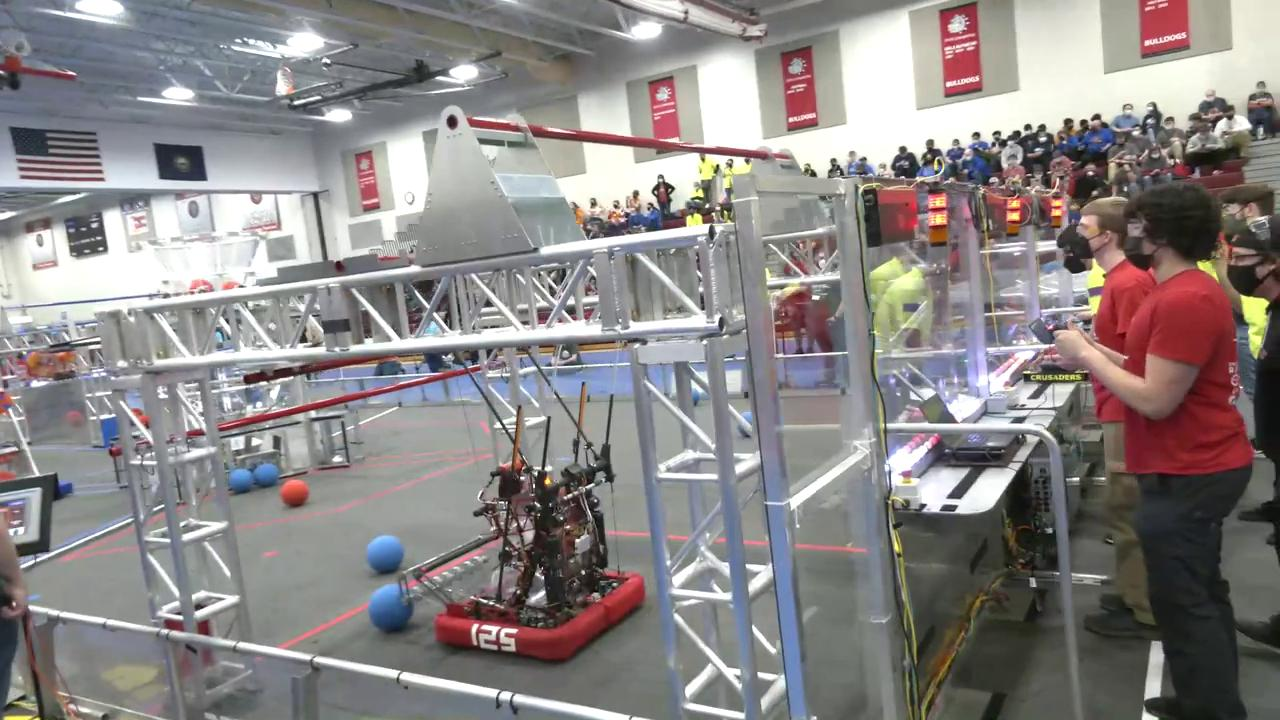robot: (423, 462, 647, 664)
